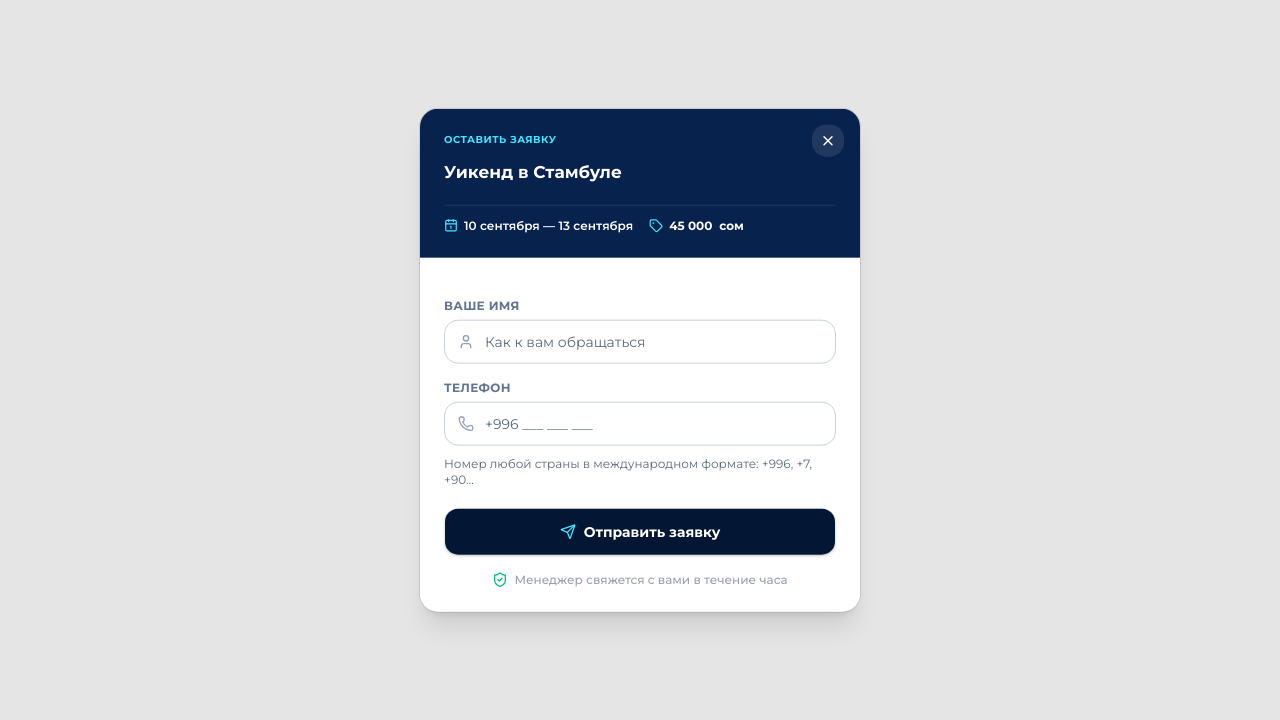
Test: OrderCard › отклоняет некорректный телефон
Type "Людмила" into the field labelled "Ваше имя" at (640, 341), box left=444, top=319, right=836, bottom=363
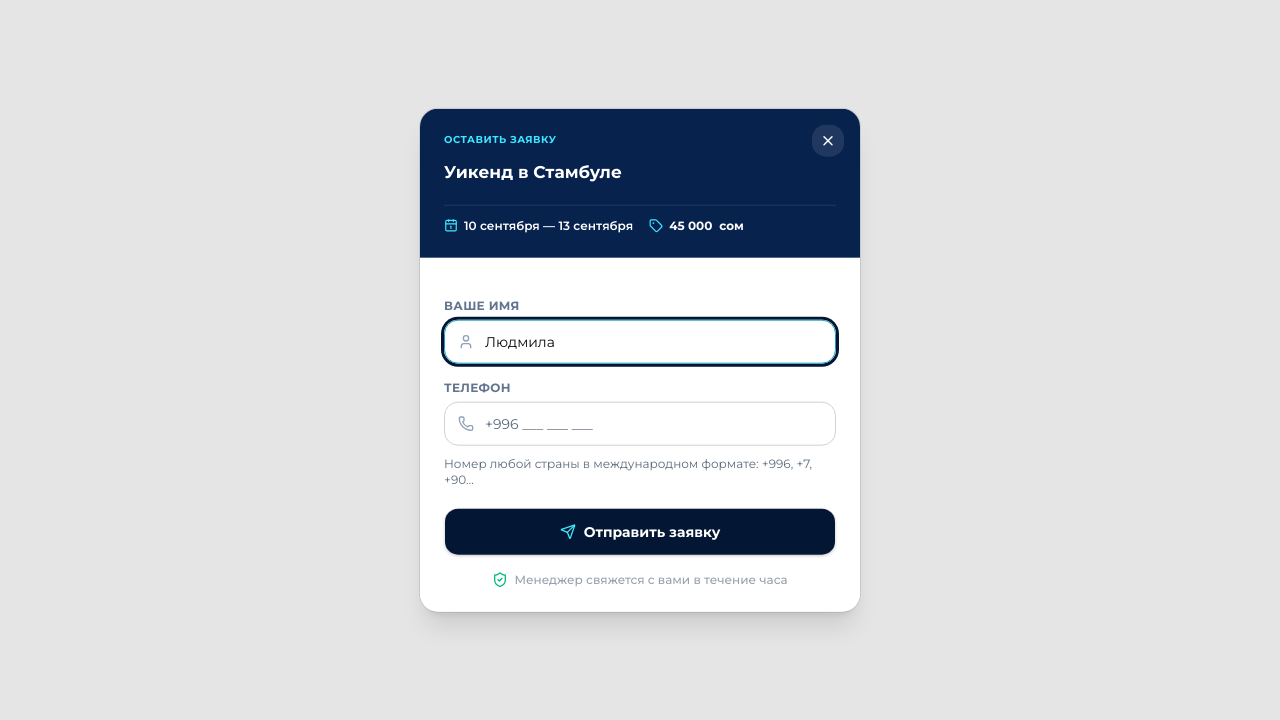
Type "123" into the field labelled "Телефон" at (640, 423), box left=444, top=401, right=836, bottom=445
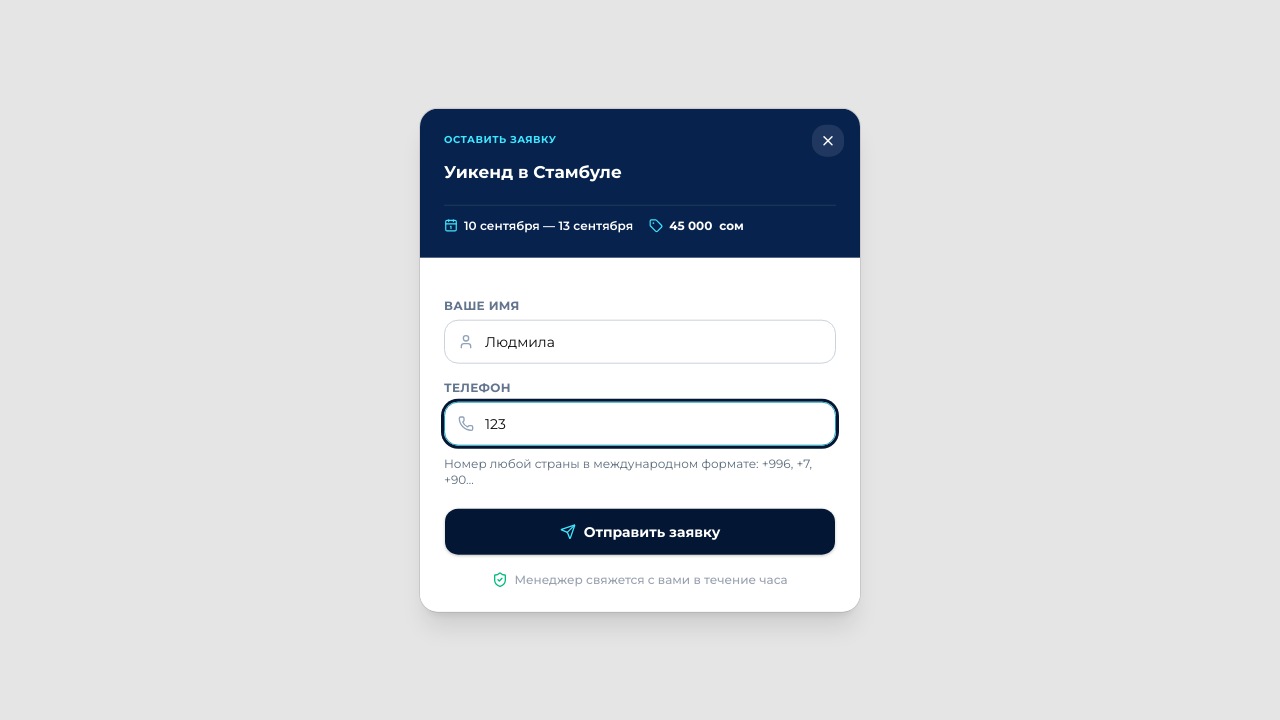
Click the button "Отправить заявку" at (640, 531), box left=444, top=507, right=836, bottom=555
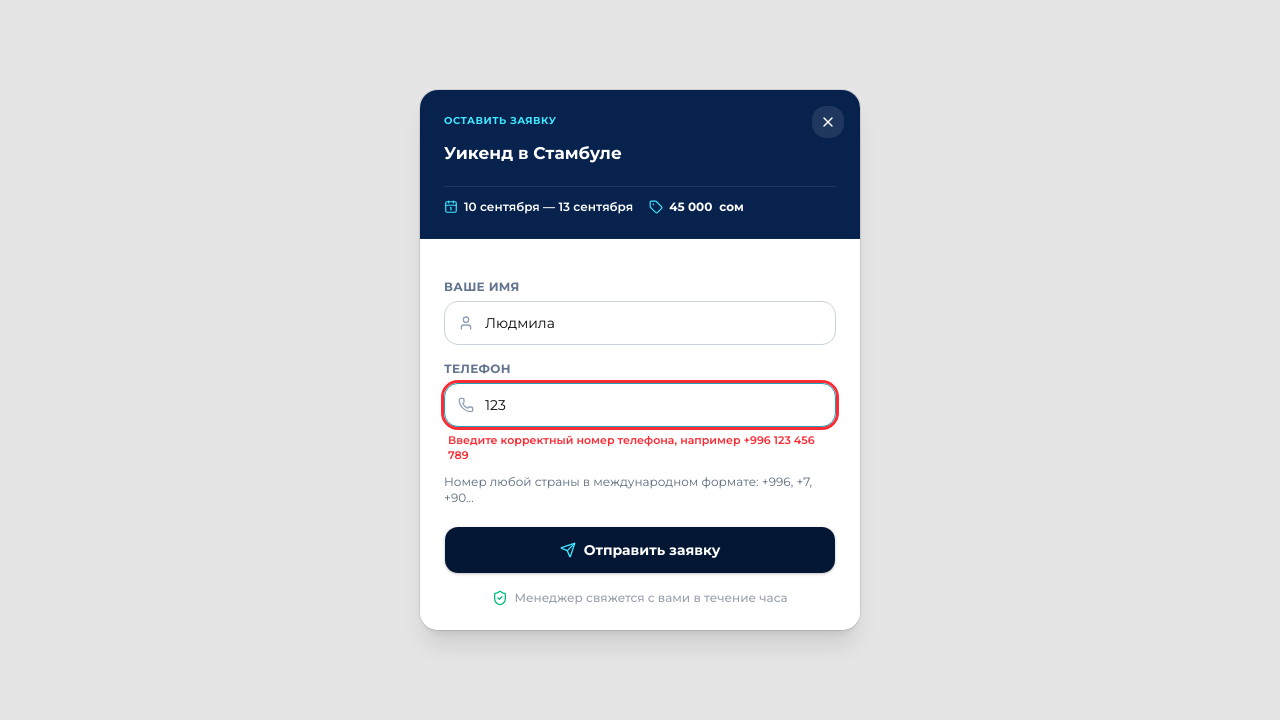
Now the text "Введите корректный номер телефона, например +996 123 456 789" is shown, box left=444, top=433, right=836, bottom=464
